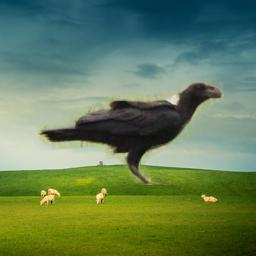Crow: (38, 81, 224, 185)
